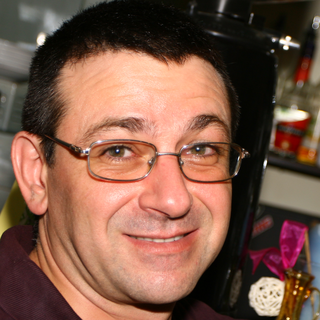eye: (97, 140, 142, 164), (183, 139, 223, 164)
